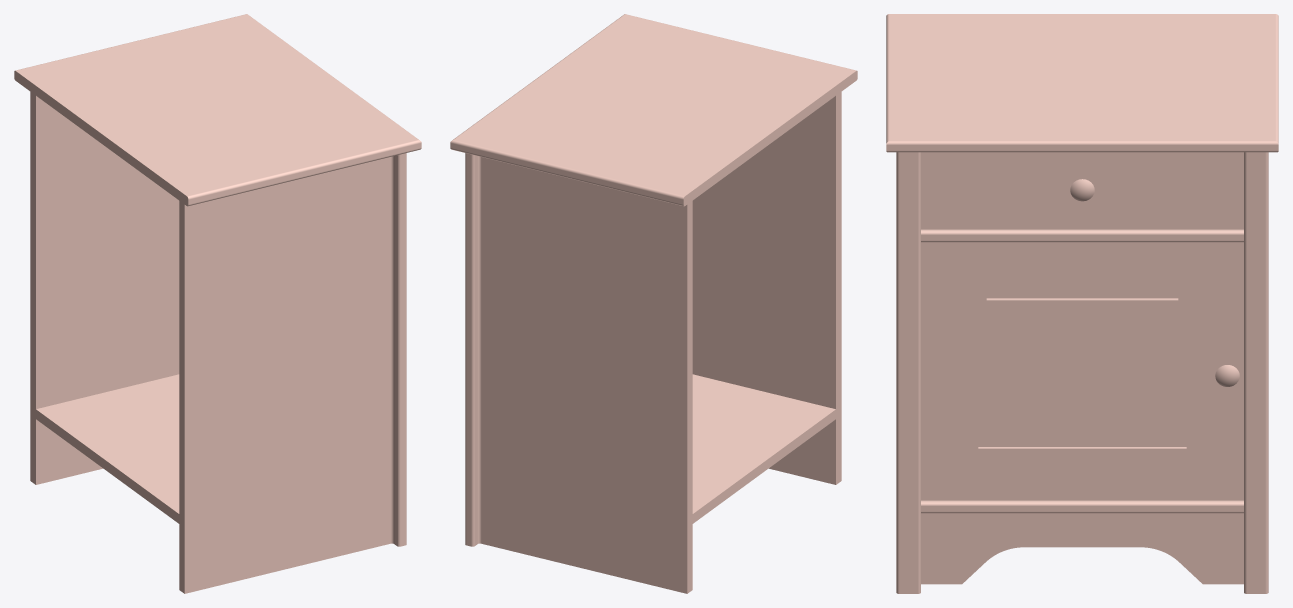
File: Velador.fbx
3 renders of one model, left to right at view 1: azimuth 30°, elevation 25°; view 2: azimuth 150°, elevation 25°; view 3: azimuth 270°, elevation 25°, orthographic. The views are drawn at different scales.
Parts seen in each view (by area): view 1: G_002, G_001, G_003; view 2: G_002, G_001, G_003; view 3: G_009, G_001, G_008, G_002, G_004, G_003, G_005.
Part boxes in pixels (left/top/right/bottom): G_002: left=30, top=92, right=406, bottom=593; G_001: left=14, top=14, right=421, bottom=206; G_003: left=36, top=374, right=179, bottom=523; G_002: left=465, top=92, right=841, bottom=593; G_001: left=450, top=14, right=857, bottom=206; G_003: left=692, top=374, right=835, bottom=523; G_009: left=921, top=242, right=1243, bottom=500; G_001: left=886, top=14, right=1278, bottom=152; G_008: left=921, top=152, right=1243, bottom=229; G_002: left=896, top=152, right=1268, bottom=593; G_004: left=921, top=513, right=1243, bottom=584; G_003: left=921, top=500, right=1243, bottom=513; G_005: left=921, top=229, right=1243, bottom=242.
Size of the model in its own units: 37.05 by 61.5 by 47.9.
